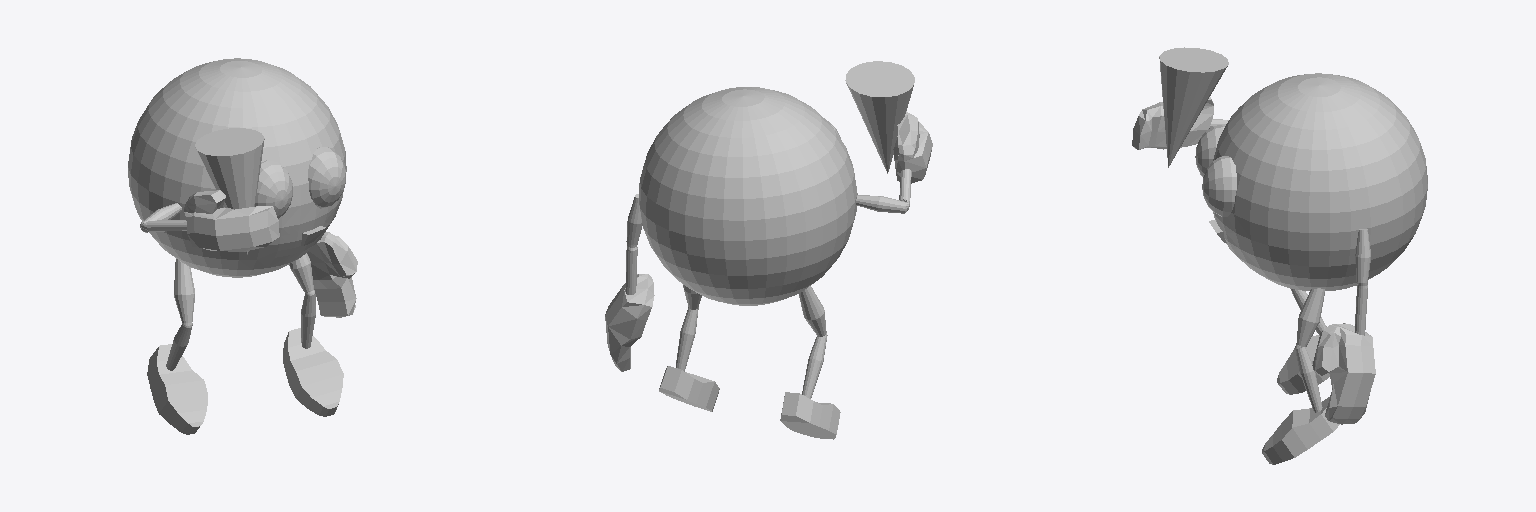
Rendered from stepLeft_000037.obj.
3 views of the same model, side by side, from view 1: azimuth 30°, elevation 25°; view 2: azimuth 150°, elevation 25°; view 3: azimuth 270°, elevation 25° (orthographic).
Visible parts, largest first — view 1: Rusko_Sphere; view 2: Rusko_Sphere; view 3: Rusko_Sphere.
Part boxes in pixels (x1,y1,x2,y2): Rusko_Sphere: (128,58,357,434); Rusko_Sphere: (605,61,932,439); Rusko_Sphere: (1132,47,1427,464).
Bounding box in the file's own units: 5.38 × 6.96 × 5.39.